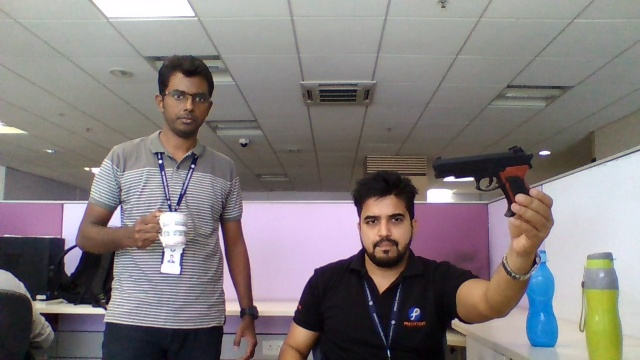gun: (432, 145, 534, 183)
